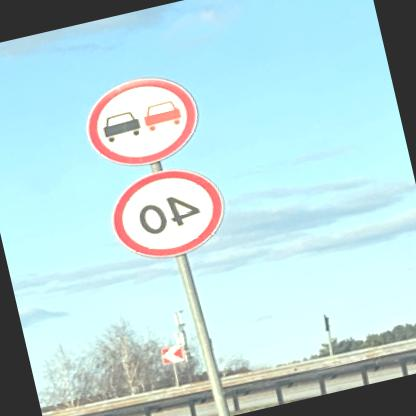speedlimit: (106, 158, 235, 267)
